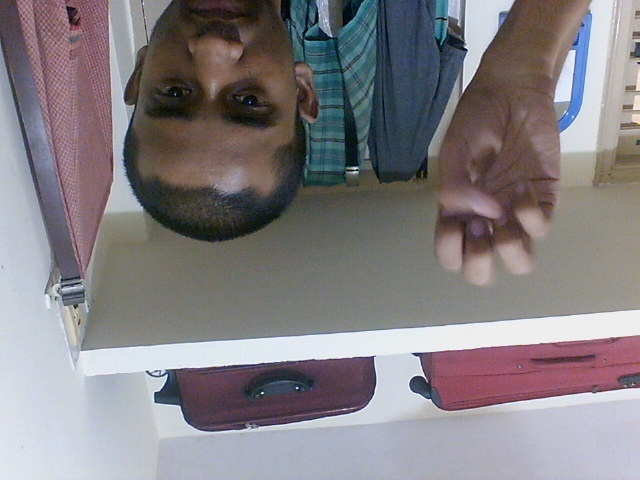hand: (427, 53, 567, 293)
